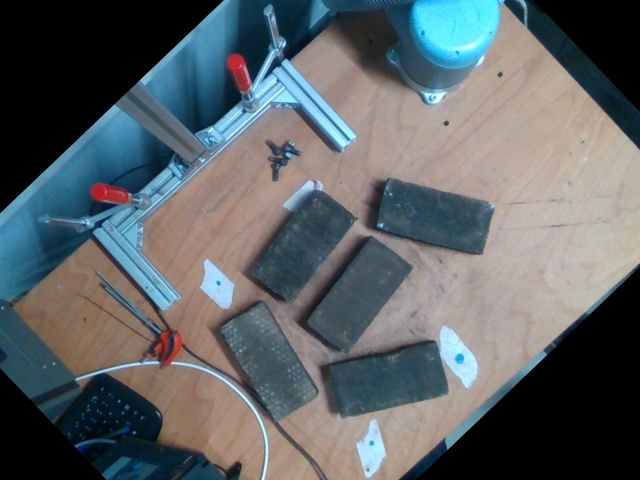brick: (251, 188, 356, 304), (308, 241, 408, 350), (223, 306, 315, 418), (375, 182, 494, 252), (332, 348, 442, 417)
